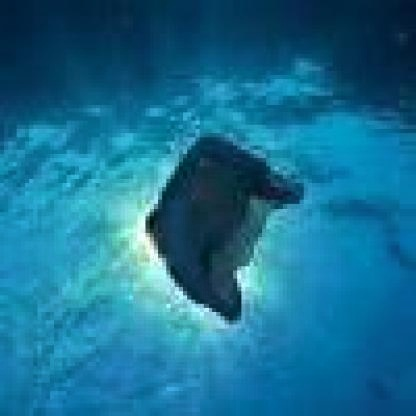pbag: (146, 133, 308, 325)
